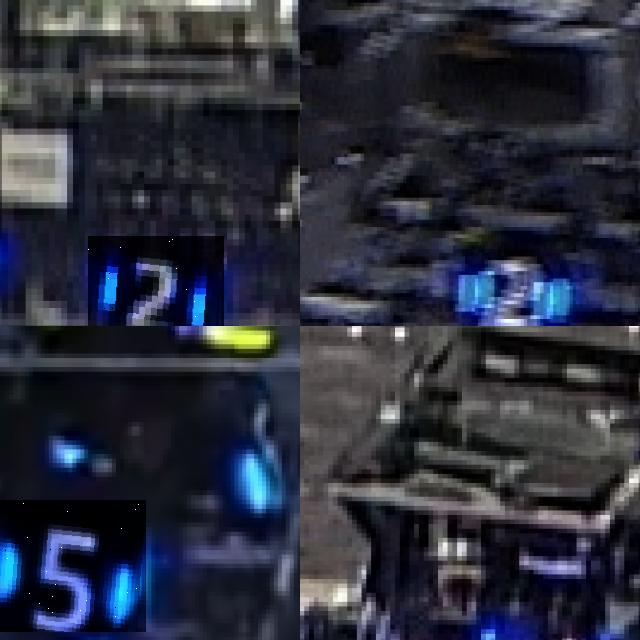B2: (87, 236, 224, 326), (445, 245, 572, 326)
B5: (0, 499, 147, 632)
